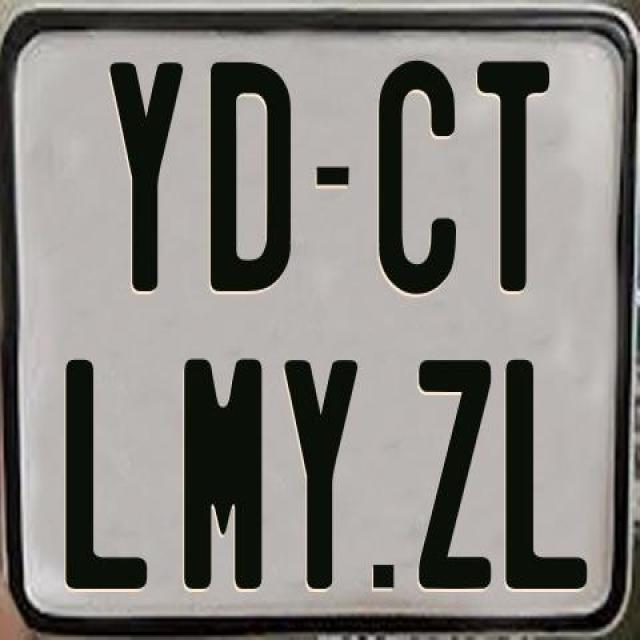C: (378, 60, 456, 302)
D: (210, 59, 298, 291)
L: (506, 357, 594, 586), (62, 360, 144, 590)
M: (181, 358, 263, 596)
T: (476, 61, 552, 294)
Y: (108, 62, 188, 292), (281, 358, 356, 592)
Z: (418, 360, 494, 597)
